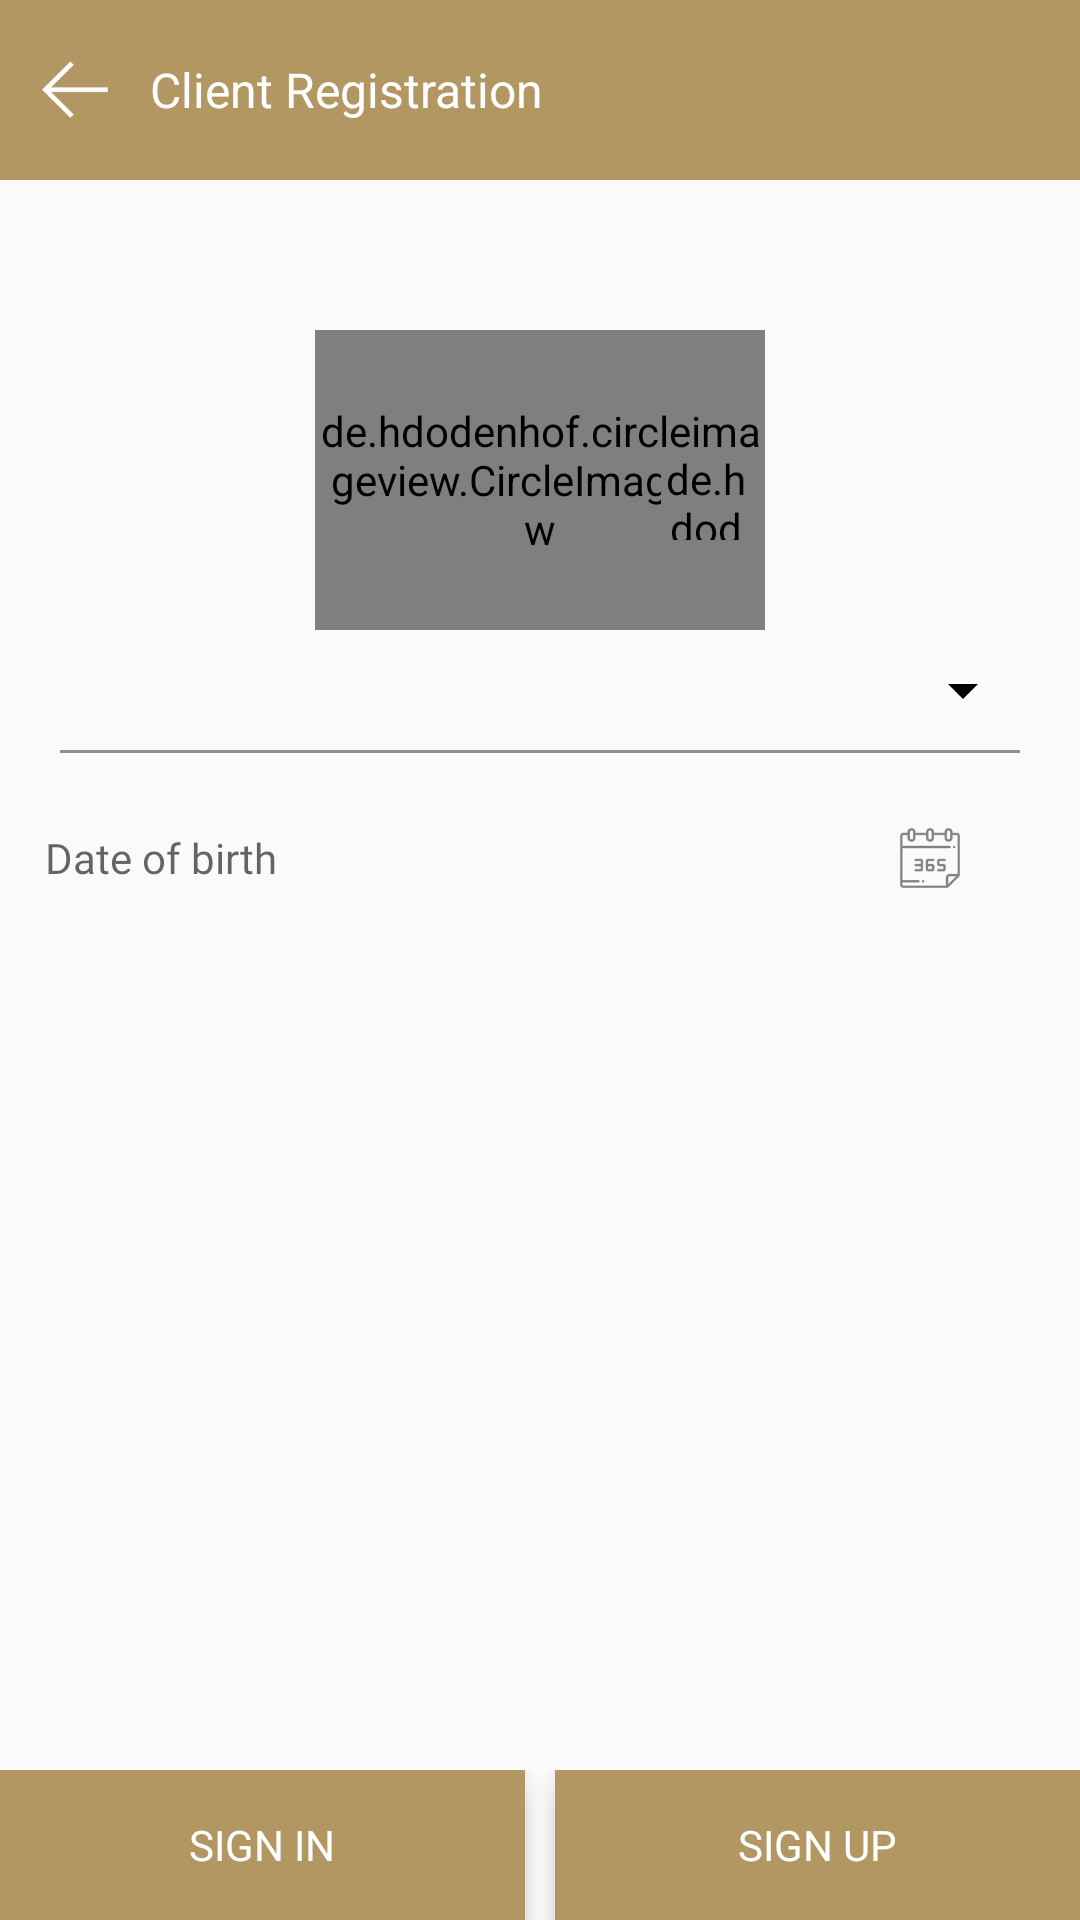

Screen size 1080 × 1920. Icon name, then its box in pixels as (x1, y1, x2, y2):
back: (42, 61, 108, 118)
cale: (900, 828, 960, 888)
